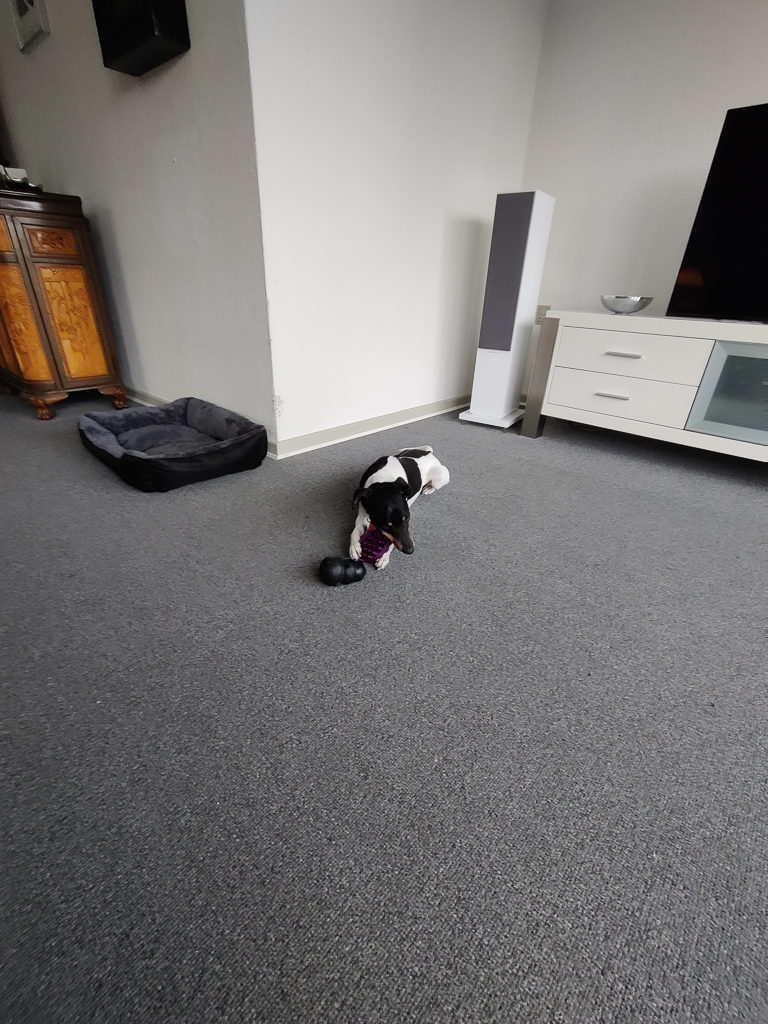Dog: (330, 430, 461, 580)
